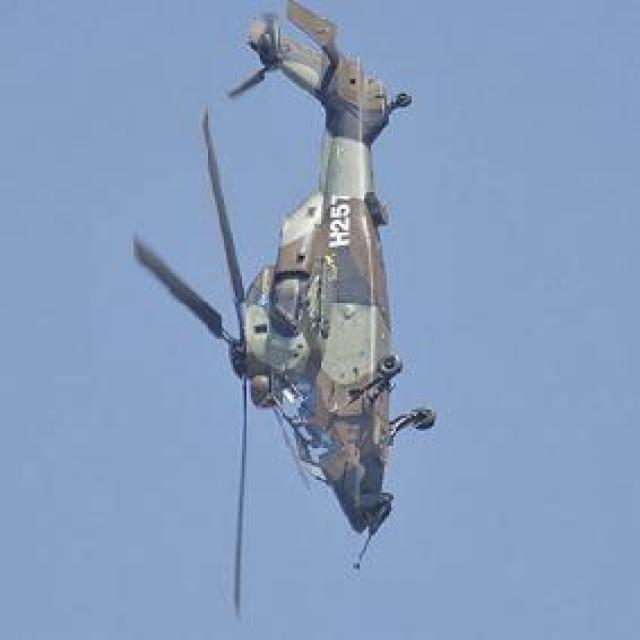MIL_HELO: (105, 0, 466, 626)
